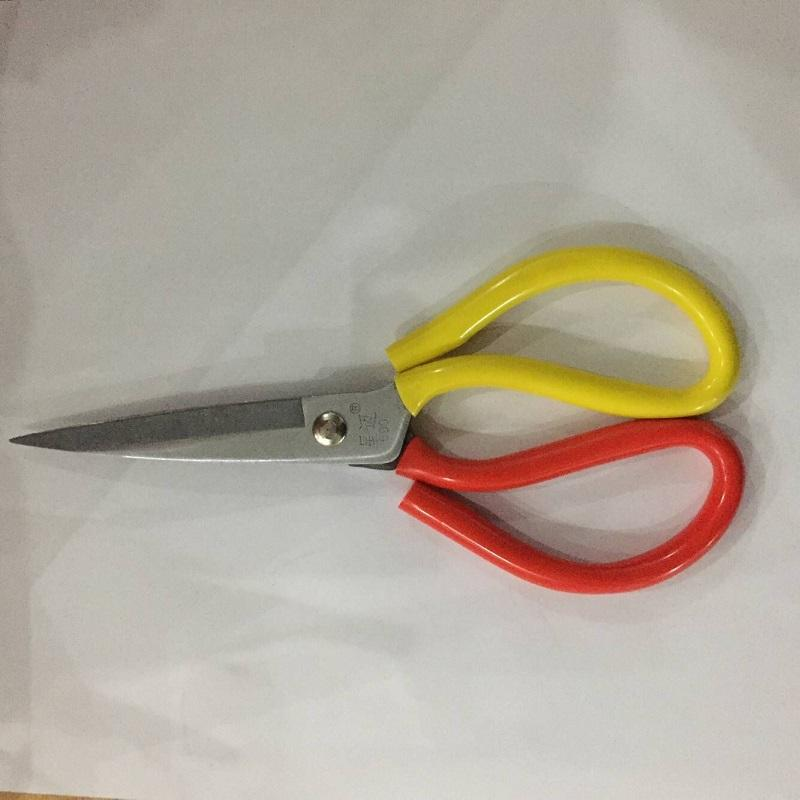scissor: (45, 265, 800, 631)
